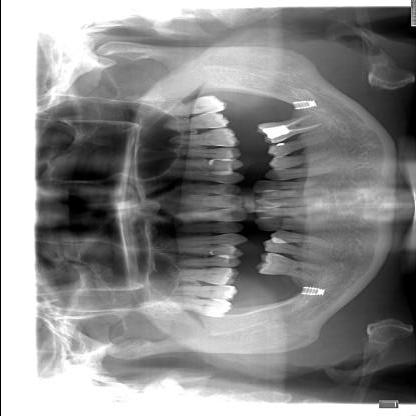Bicon: (300, 285, 325, 297), (290, 100, 318, 110)
